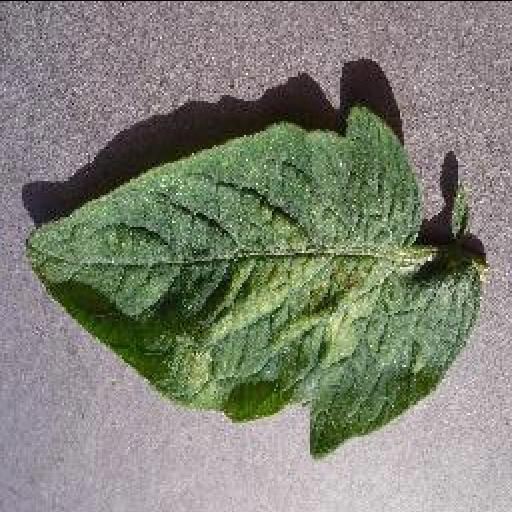disease_tomato: (24, 106, 480, 456)
